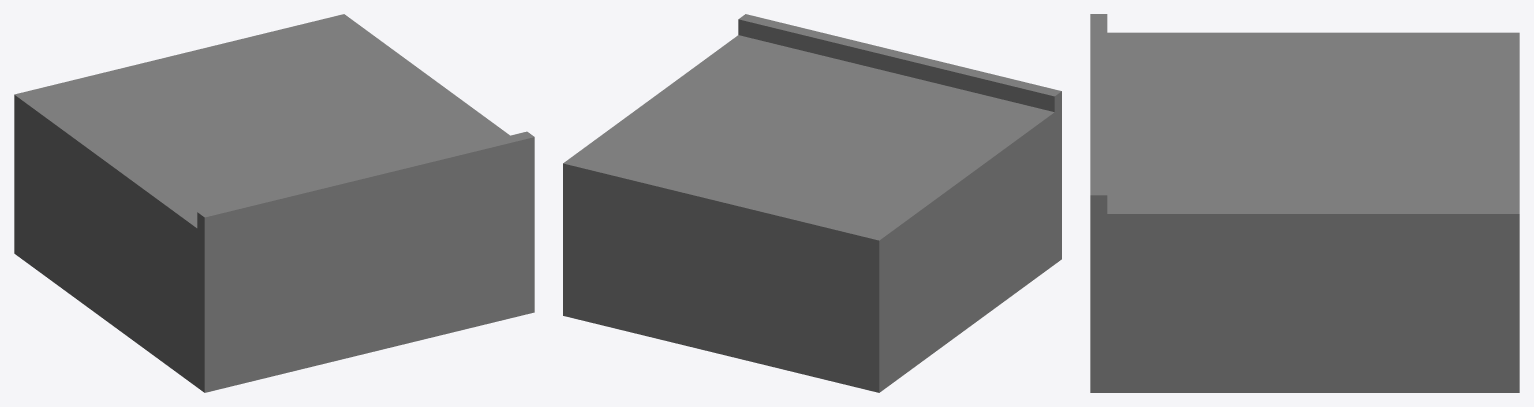
The model's file is 4x2 roof (des)-0.obj.
The picture shows the model from 3 angles, left to right: view 1: azimuth 30°, elevation 25°; view 2: azimuth 150°, elevation 25°; view 3: azimuth 270°, elevation 25°; orthographic projection. The views are drawn at different scales.
Visible parts, largest first — view 1: 4x2 roof (des)-0; view 2: 4x2 roof (des)-0; view 3: 4x2 roof (des)-0.
Part boxes in pixels (x1=…): 4x2 roof (des)-0: x1=14, y1=14, x2=534, y2=392; 4x2 roof (des)-0: x1=563, y1=14, x2=1061, y2=392; 4x2 roof (des)-0: x1=1090, y1=14, x2=1519, y2=392.
Size of the model in its own units: 126 by 64 by 126.
Materials: 1 (1 with a texture image).
